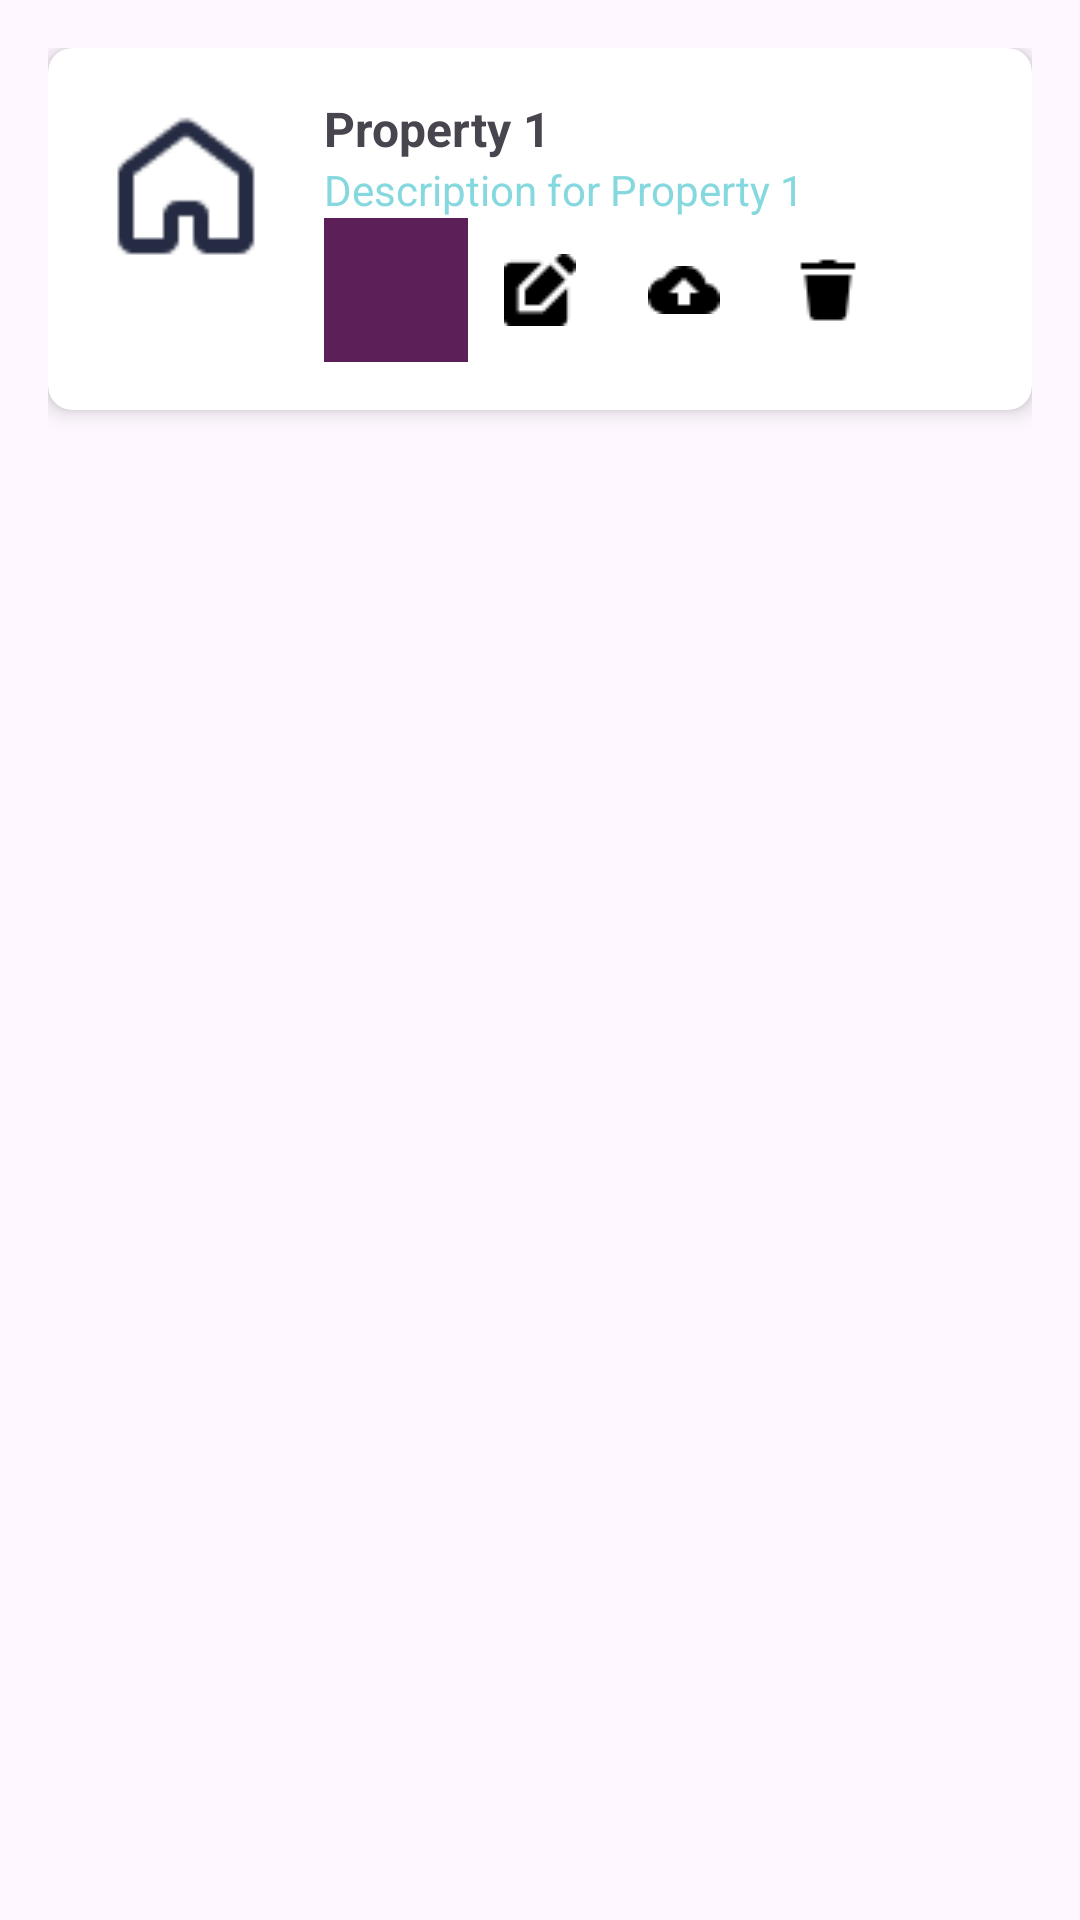

Point at icon controls on the screen. Image size 1080px×1920px, points as point (x, y).
Delete Property: point (828, 290)
Edit Property: point (540, 290)
